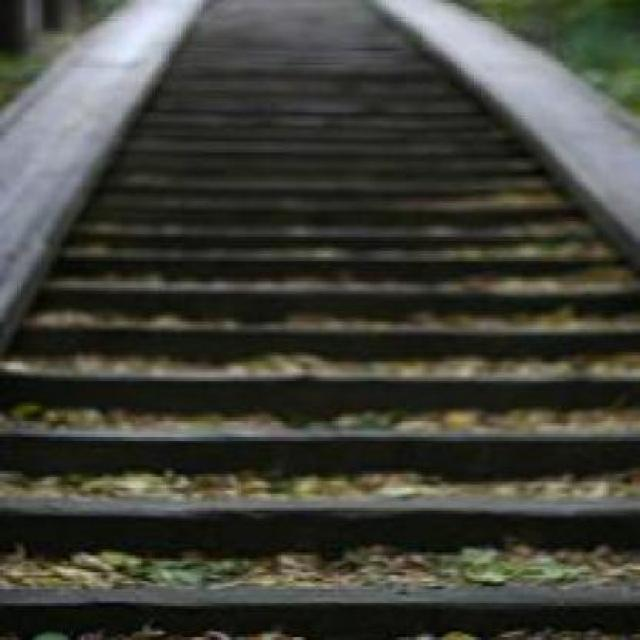stair: (23, 240, 600, 617)
